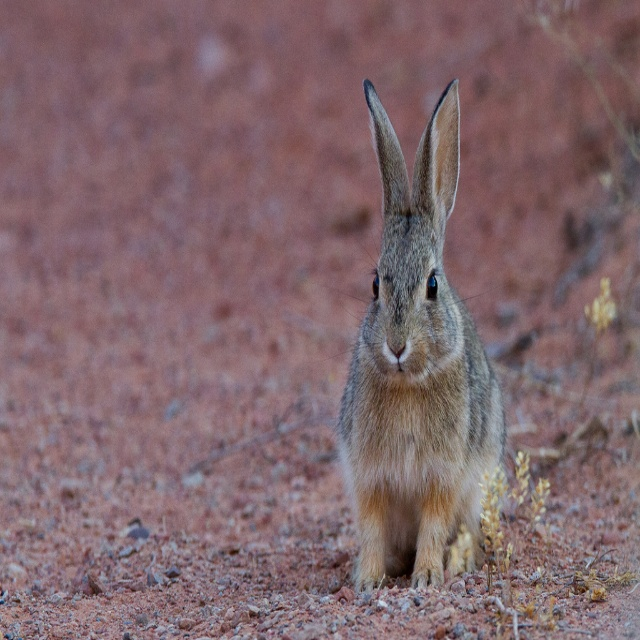Rabbit: (313, 76, 507, 594)
